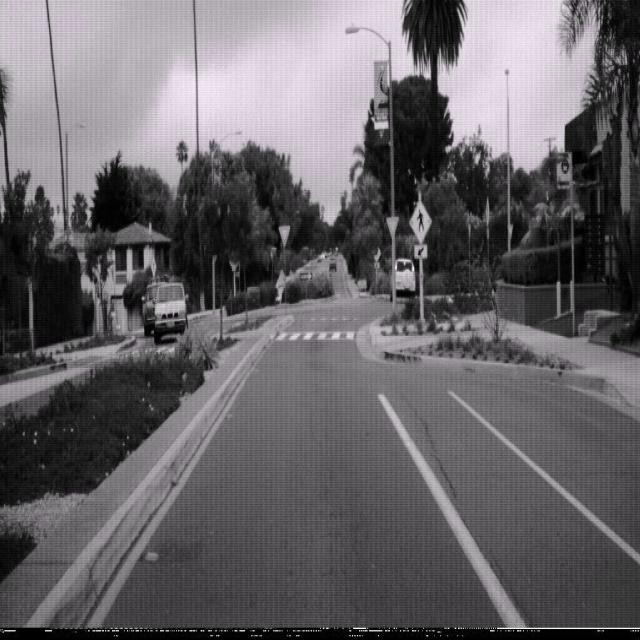pedestrianCrossing: (409, 197, 432, 244)
yield: (386, 215, 398, 239), (278, 223, 290, 247)
